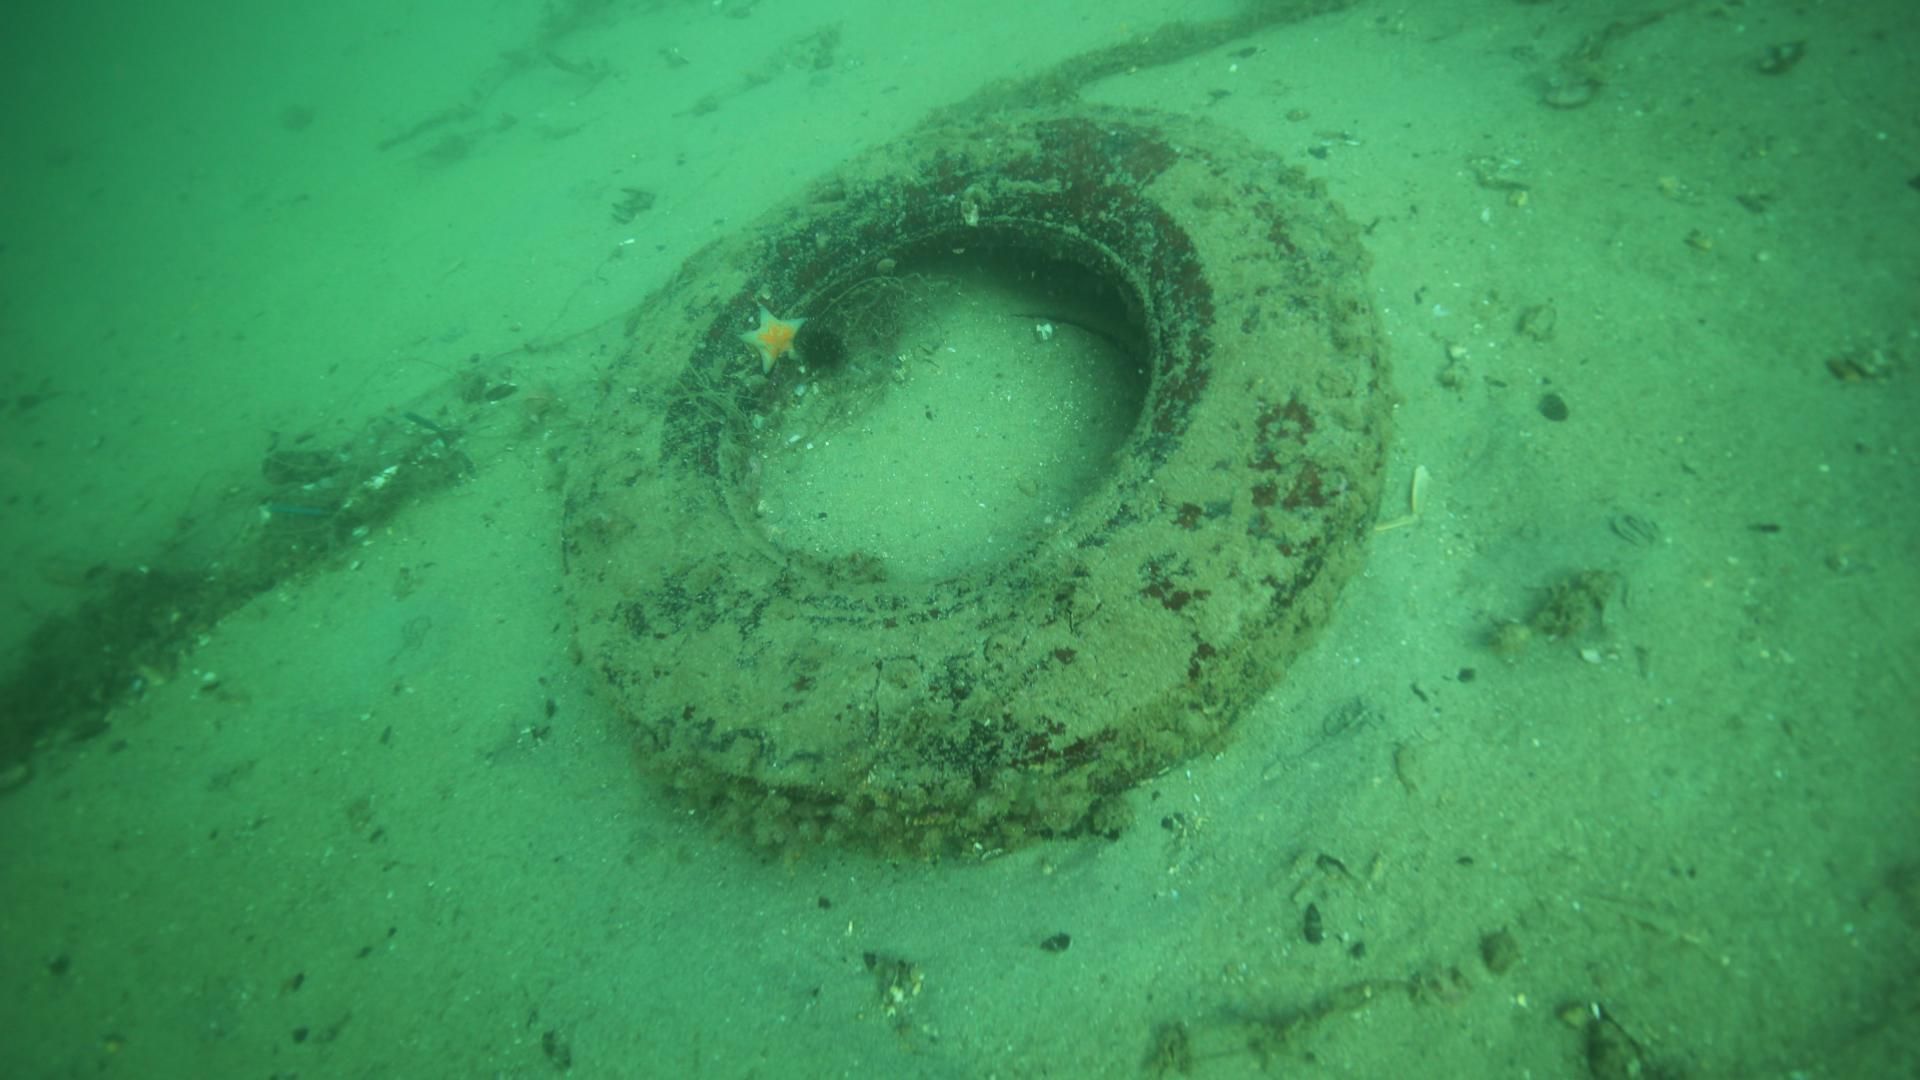tire: (562, 94, 1400, 861)
